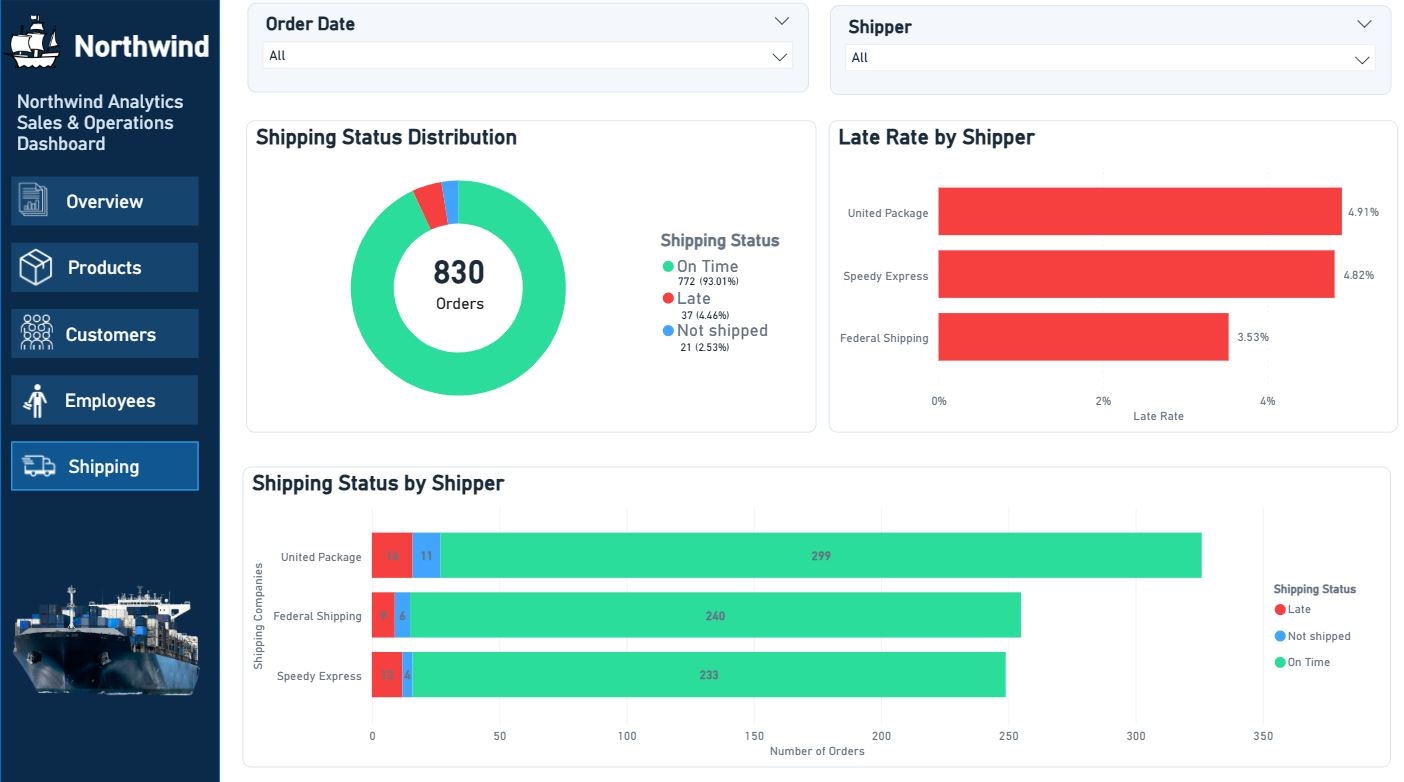

The page's visual inventory and layout, read from the dashboard file:
{"tool":"powerbi","page":{"name":"shipping","canvas":[1280,720],"ordinal":4},"visuals":[{"type":"group","id":"g1","title":"Group 1","box":[0,0,233.9,720],"z":0},{"type":"shape","box":[0,0,200,720],"z":0,"group":"g1"},{"type":"slicer","fields":{"Values":["orders.orderDate"]},"box":[224.6,3.8,510,81.5],"z":1000},{"type":"slicer","fields":{"Values":["shippers.companyName"]},"box":[754.3,5.7,510,81.4],"z":2000},{"type":"donutChart","title":"Shipping Status Distribution","fields":{"Category":["orders.shipping_status"],"Y":["Tables_measures.Total Orders"]},"box":[223.8,110,518,284],"z":3000},{"type":"card","fields":{"Values":["Tables_measures.ON Time Orders"]},"box":[480,225,289.2,67.5],"z":4000},{"type":"textbox","title":"Northwind","box":[62.6,27.5,171.2,32.5],"z":5000,"group":"g1"},{"type":"card","fields":{"Values":["Tables_measures.On Time Rate Display"]},"box":[486.4,229.3,335,59.3],"z":5000},{"type":"image","box":[1.4,11.2,56.2,55],"z":6000,"group":"g1"},{"type":"card","fields":{"Values":["Tables_measures.Late Orders"]},"box":[377.1,214.3,495,150],"z":6000},{"type":"textbox","title":"Northwind Analytics Sales & Operations Dashboard","box":[10.1,82.5,200,96.2],"z":7000,"group":"g1"},{"type":"card","fields":{"Values":["Tables_measures.Late Rate Display"]},"box":[451.4,214.3,393.6,150],"z":7000},{"type":"actionButton","title":"Overview","box":[9.9,161.3,170.3,44.5],"z":8000,"group":"g1"},{"type":"card","fields":{"Values":["Tables_measures.Not_shipped_orders"]},"box":[427.7,243.8,393.1,150],"z":8000},{"type":"actionButton","box":[10.1,221.3,170,44.7],"z":9000,"group":"g1"},{"type":"card","fields":{"Values":["Tables_measures.Not Shipped Rate Display"]},"box":[450.8,243.8,393.1,150],"z":9000},{"type":"card","fields":{"Values":["Tables_measures.Total Orders"]},"box":[222,172,392,150],"z":10000},{"type":"actionButton","box":[9.9,281.5,170.3,44.5],"z":10000,"group":"g1"},{"type":"textbox","box":[220,262,392,150],"z":11000},{"type":"actionButton","title":"Overview","box":[9.9,341.5,169.7,45.2],"z":11000,"group":"g1"},{"type":"actionButton","title":"Overview","box":[9.9,402.2,170.3,44.5],"z":12000,"group":"g1"},{"type":"barChart","title":"Shipping Status by Shipper","fields":{"Category":["shippers.companyName"],"Y":["Tables_measures.Total Orders"],"Series":["orders.shipping_status"]},"box":[220,425,1043.8,273.8],"z":12000},{"type":"clusteredBarChart","title":"Late Rate by Shipper","fields":{"Category":["shippers.companyName"],"Y":["Tables_measures.Late_rate"]},"box":[753.8,110,517.5,283.8],"z":13000},{"type":"image","box":[4.9,454,181,266],"z":32000,"group":"g1"}]}

Visuals, with their boxes in screenshot pixels (x1, y1, x2, y2), scaled from the page's 1280x720 canvas onto the 1404x782 screenshot:
"Group 1" group: <region>0, 0, 257, 781</region>
shape: <region>0, 0, 219, 781</region>
slicer - orders.orderDate: <region>246, 4, 806, 93</region>
slicer - shippers.companyName: <region>827, 6, 1387, 95</region>
"Shipping Status Distribution" donutChart: <region>245, 119, 814, 428</region>
card - Tables_measures.ON Time Orders: <region>526, 244, 844, 318</region>
"Northwind" textbox: <region>69, 30, 256, 65</region>
card - Tables_measures.On Time Rate Display: <region>534, 249, 901, 313</region>
image: <region>2, 12, 63, 72</region>
card - Tables_measures.Late Orders: <region>414, 233, 957, 396</region>
"Northwind Analytics Sales & Operations Dashboard" textbox: <region>11, 90, 230, 194</region>
card - Tables_measures.Late Rate Display: <region>495, 233, 927, 396</region>
"Overview" actionButton: <region>11, 175, 198, 224</region>
card - Tables_measures.Not_shipped_orders: <region>469, 265, 900, 428</region>
actionButton: <region>11, 240, 198, 289</region>
card - Tables_measures.Not Shipped Rate Display: <region>494, 265, 926, 428</region>
card - Tables_measures.Total Orders: <region>244, 187, 673, 350</region>
actionButton: <region>11, 306, 198, 354</region>
textbox: <region>241, 285, 671, 447</region>
"Overview" actionButton: <region>11, 371, 197, 420</region>
"Overview" actionButton: <region>11, 437, 198, 485</region>
"Shipping Status by Shipper" barChart: <region>241, 462, 1386, 759</region>
"Late Rate by Shipper" clusteredBarChart: <region>827, 119, 1394, 428</region>
image: <region>5, 493, 204, 781</region>
